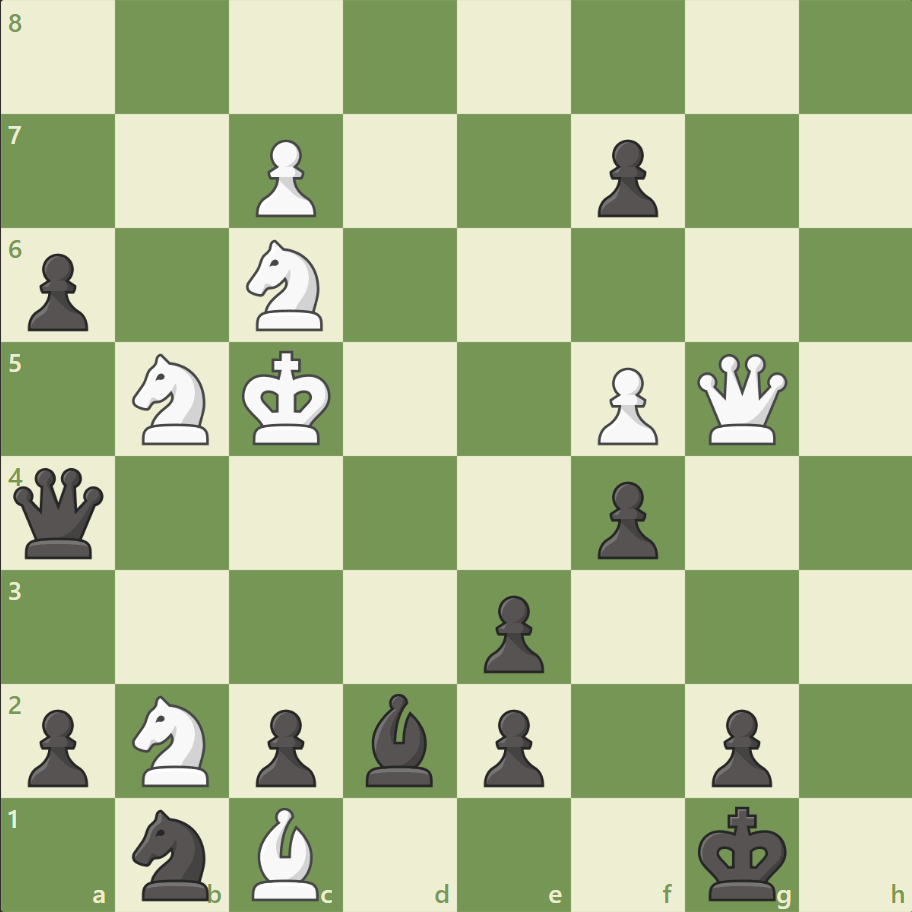B: (244, 801, 328, 904)
K: (238, 344, 338, 452)
N: (124, 688, 222, 791), (124, 348, 222, 450), (238, 234, 335, 337)
P: (247, 132, 322, 223), (588, 359, 662, 450)
Q: (691, 349, 790, 449)
b: (358, 687, 442, 790)
k: (692, 798, 792, 906)
n: (124, 802, 222, 904)
p: (20, 246, 95, 337), (474, 586, 549, 677), (20, 700, 95, 791), (247, 700, 322, 791), (474, 700, 549, 791), (701, 700, 776, 791), (588, 132, 662, 223), (588, 473, 662, 564)
q: (10, 463, 109, 562)
